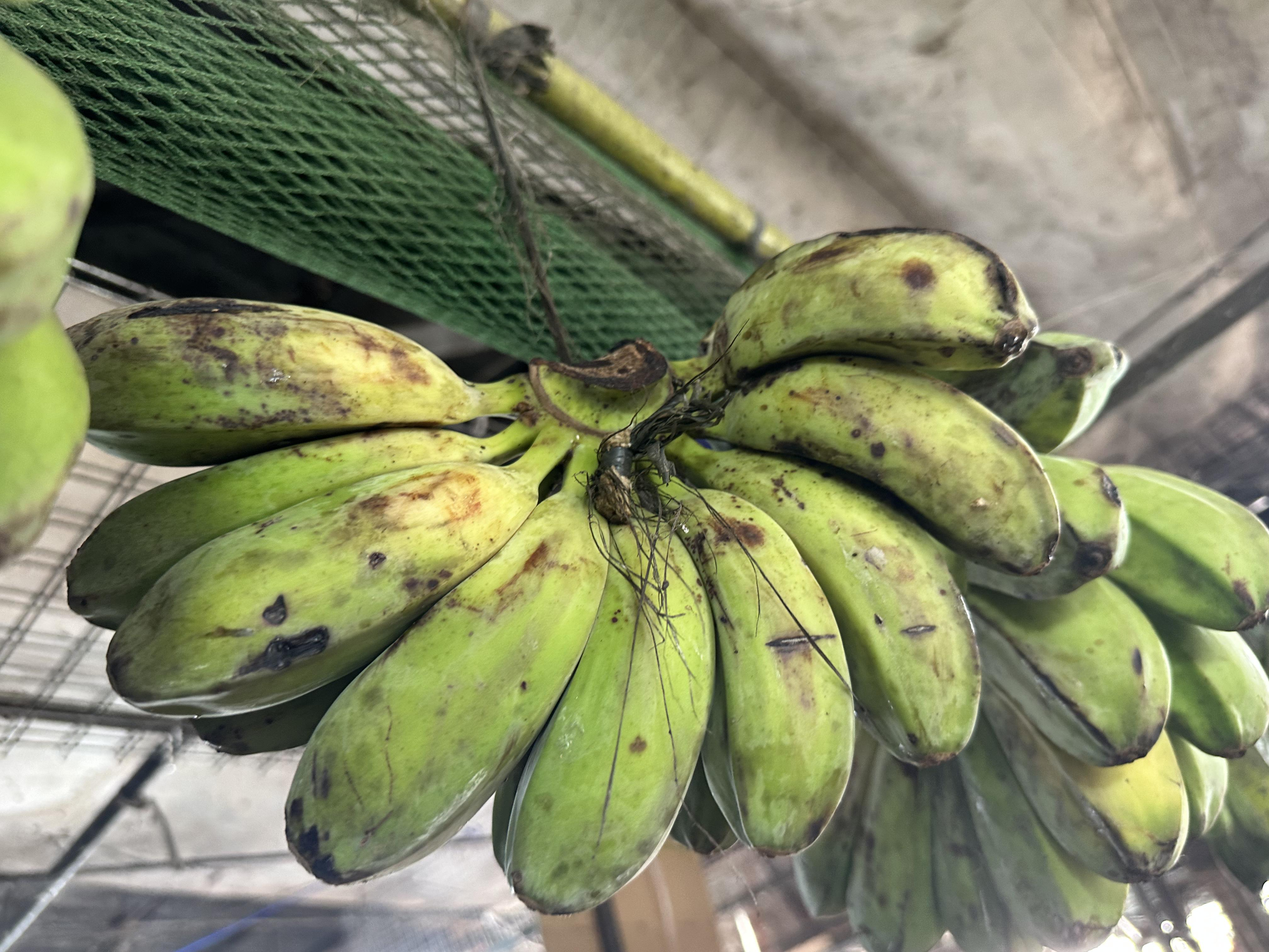underripe: (61, 227, 1062, 916), (794, 331, 1269, 952)
